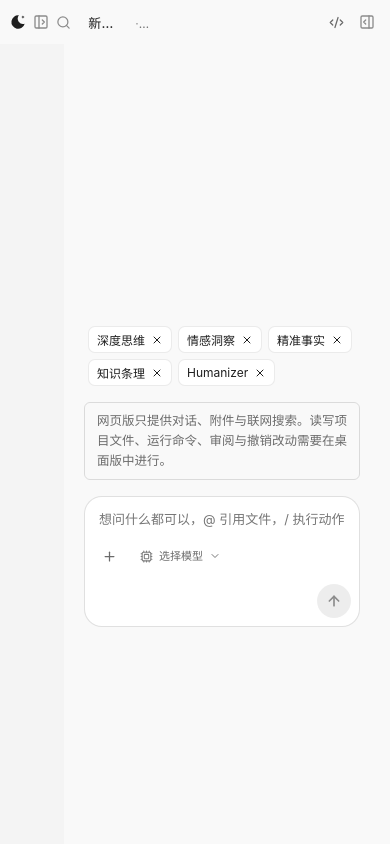
Test: App flows › does not offer an AI retry when saving a message fails
In the text box with placeholder "想问什么都可以，@ 引用文件，/ 执行动作": x=222, y=520 [99,510,345,530], type "请记住这句话"
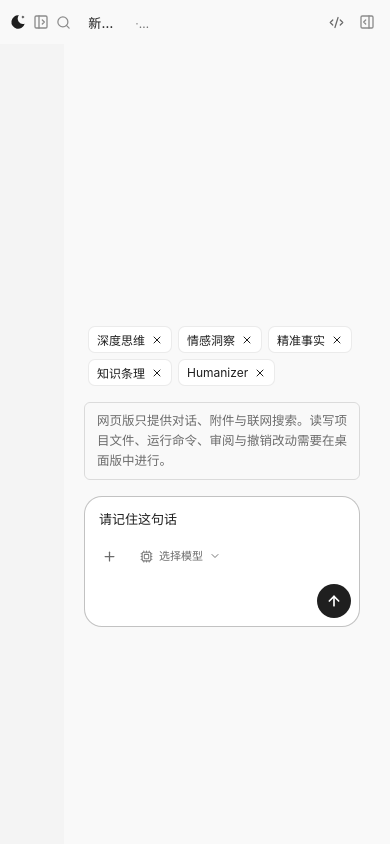
Click the button named "发送": x=334, y=602 [317,584,351,618]
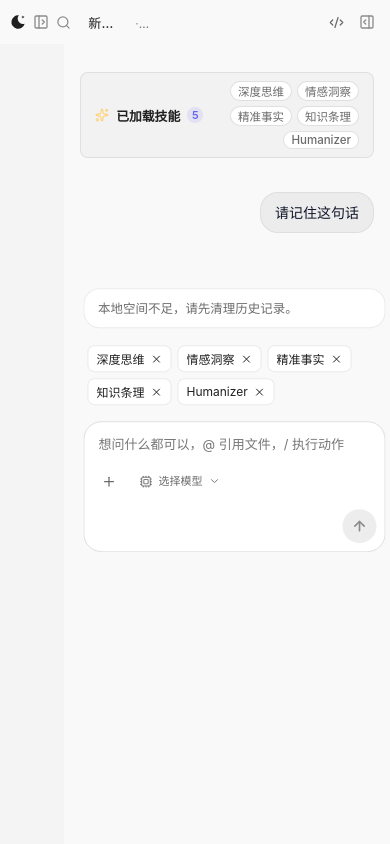
Result: the text "本地空间不足，请先清理历史记录。" is shown at [97,345,296,363]
